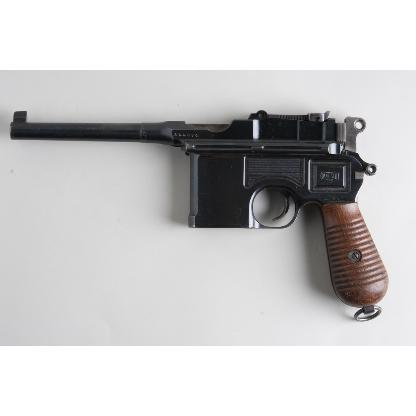gun: (9, 108, 390, 320)
